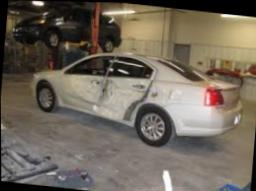Door: (93, 76, 155, 122)
